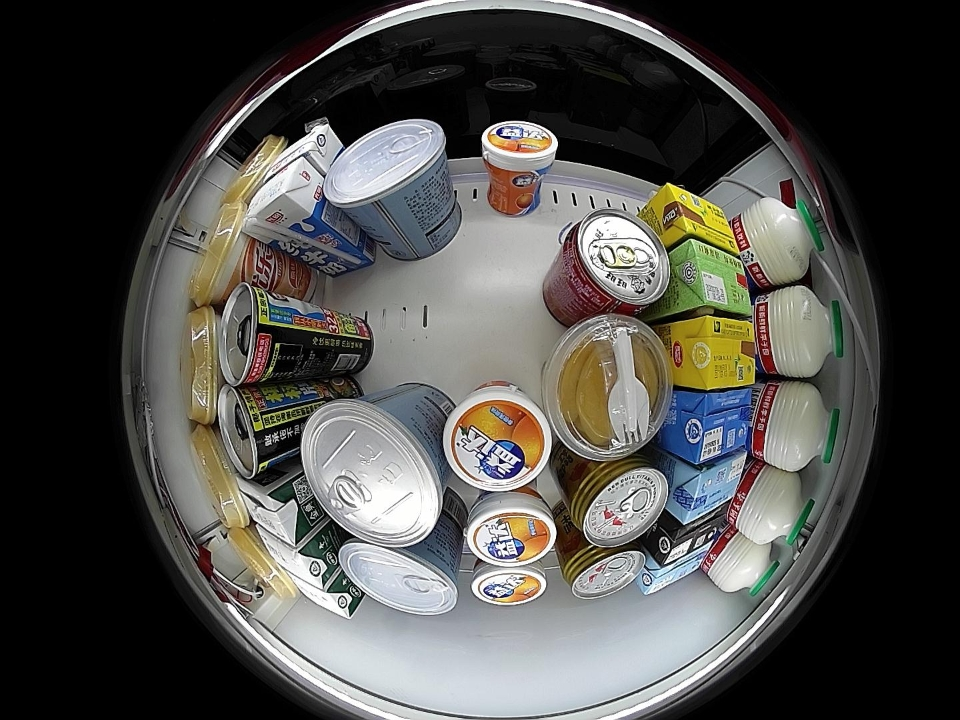haitai: (300, 397, 446, 547), (323, 118, 449, 223), (340, 535, 461, 617)
hongniu2: (568, 456, 669, 547), (561, 540, 646, 601)
jindian: (237, 472, 311, 546), (254, 525, 338, 590), (286, 570, 362, 619)
liziyuan: (757, 285, 843, 379), (738, 198, 825, 287), (757, 380, 842, 471), (734, 465, 816, 547), (707, 531, 781, 597)
niunai: (242, 157, 324, 244), (266, 120, 338, 183)
wanglaoji: (675, 237, 752, 316)
wangzainiunai: (556, 210, 670, 316)
weitanai: (666, 388, 753, 465)
weitanai2: (650, 507, 728, 567)
weitanaiditang: (667, 451, 747, 525), (637, 545, 711, 596)
weitaningmeng: (651, 183, 738, 254), (674, 315, 755, 390)
xianguolao: (546, 314, 672, 458)
yezhi: (218, 283, 286, 386), (217, 384, 283, 479)
yida: (443, 383, 552, 492), (464, 492, 558, 566), (481, 121, 559, 176), (470, 561, 548, 607)
youlemei: (187, 201, 260, 306), (190, 426, 247, 528), (181, 306, 223, 424), (228, 525, 293, 601), (226, 134, 284, 203)
